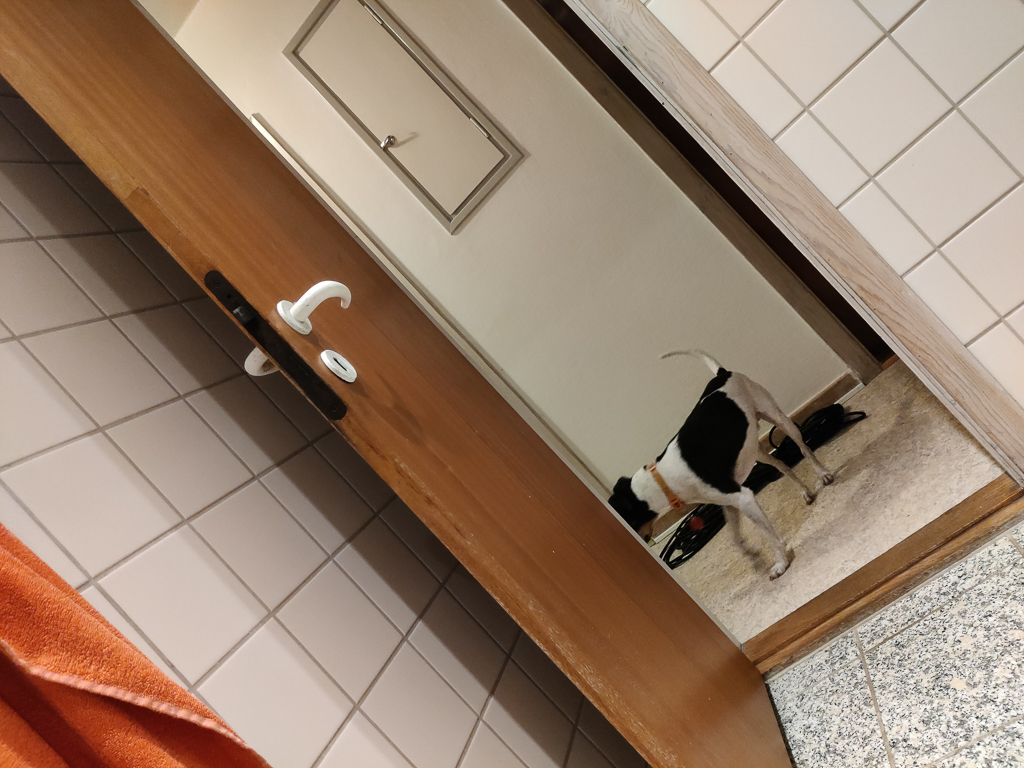Dog: (580, 332, 842, 593)
